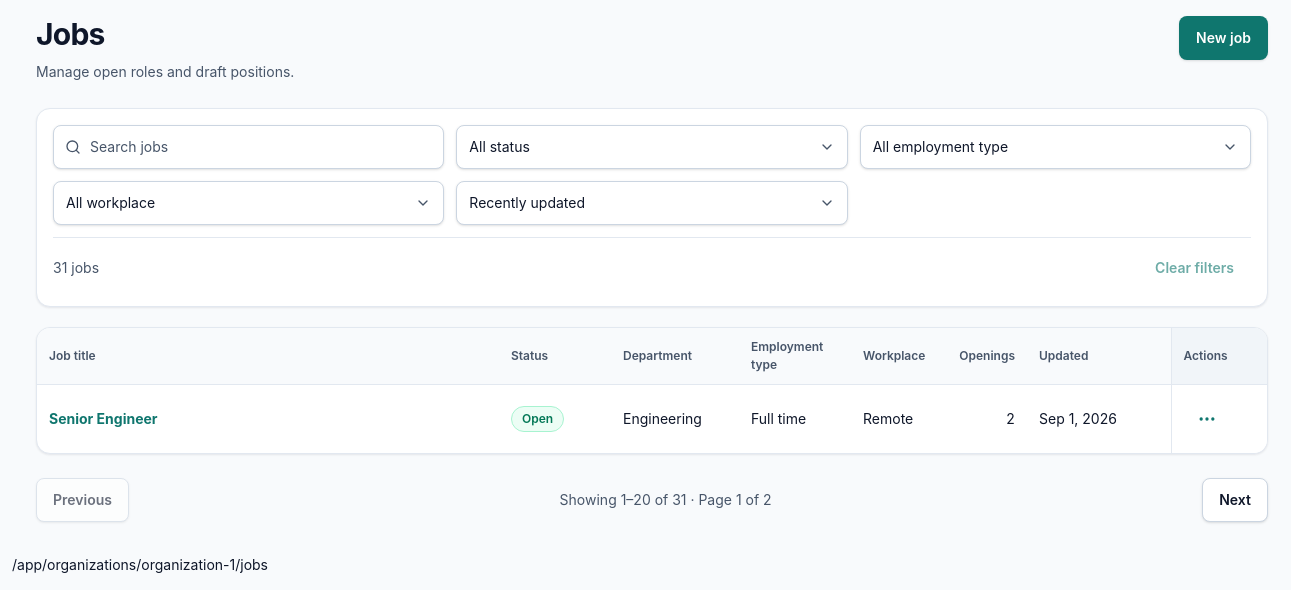
it: jobs list page › paginates using API totals and preserves the workspace route
Step 1. Click the button "Next" → (1235, 500), box left=1202, top=478, right=1268, bottom=522
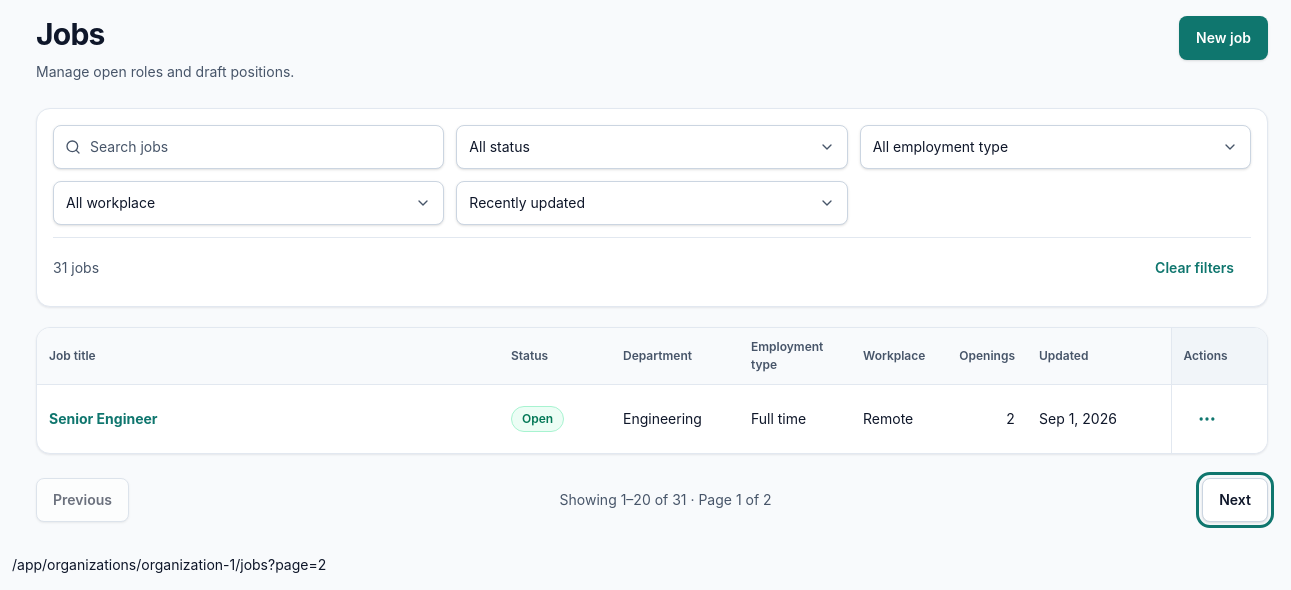
Now the text with test id "location" shows "page=2", box left=12, top=556, right=326, bottom=572
